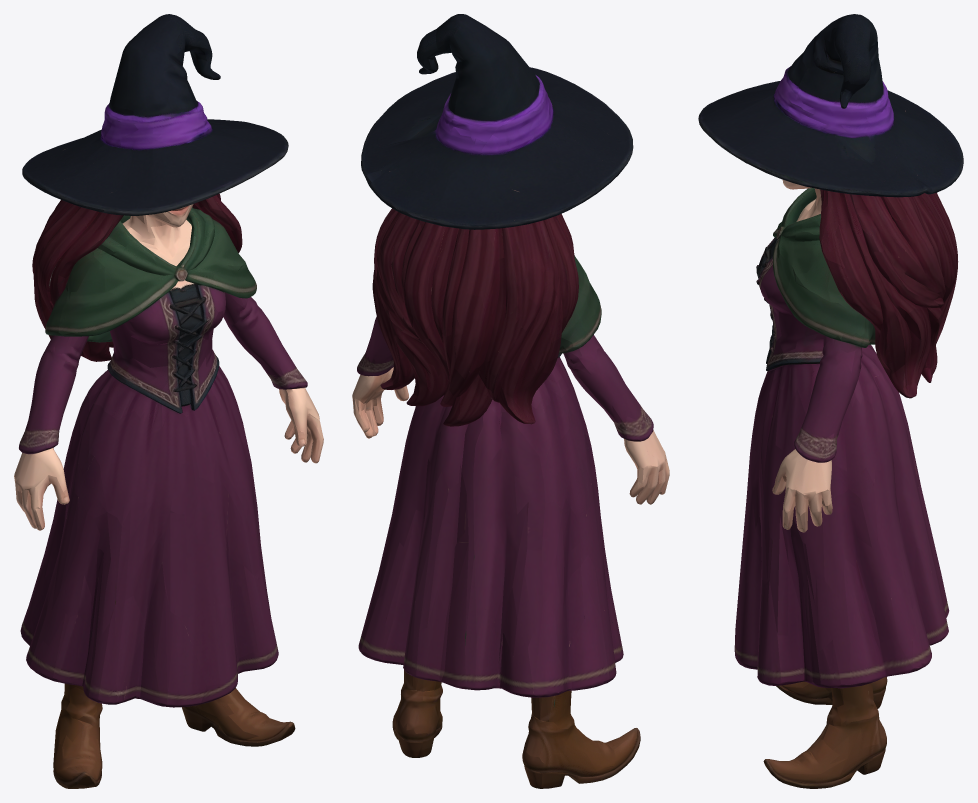
File: Witch_model.glb
3 renders of one model, left to right at view 1: azimuth 30°, elevation 25°; view 2: azimuth 150°, elevation 25°; view 3: azimuth 270°, elevation 25°, orthographic. The views are drawn at different scales.
Bounding box in the file's own units: 0.8185 × 1.9 × 0.6226.
1 material, 1 textured.
